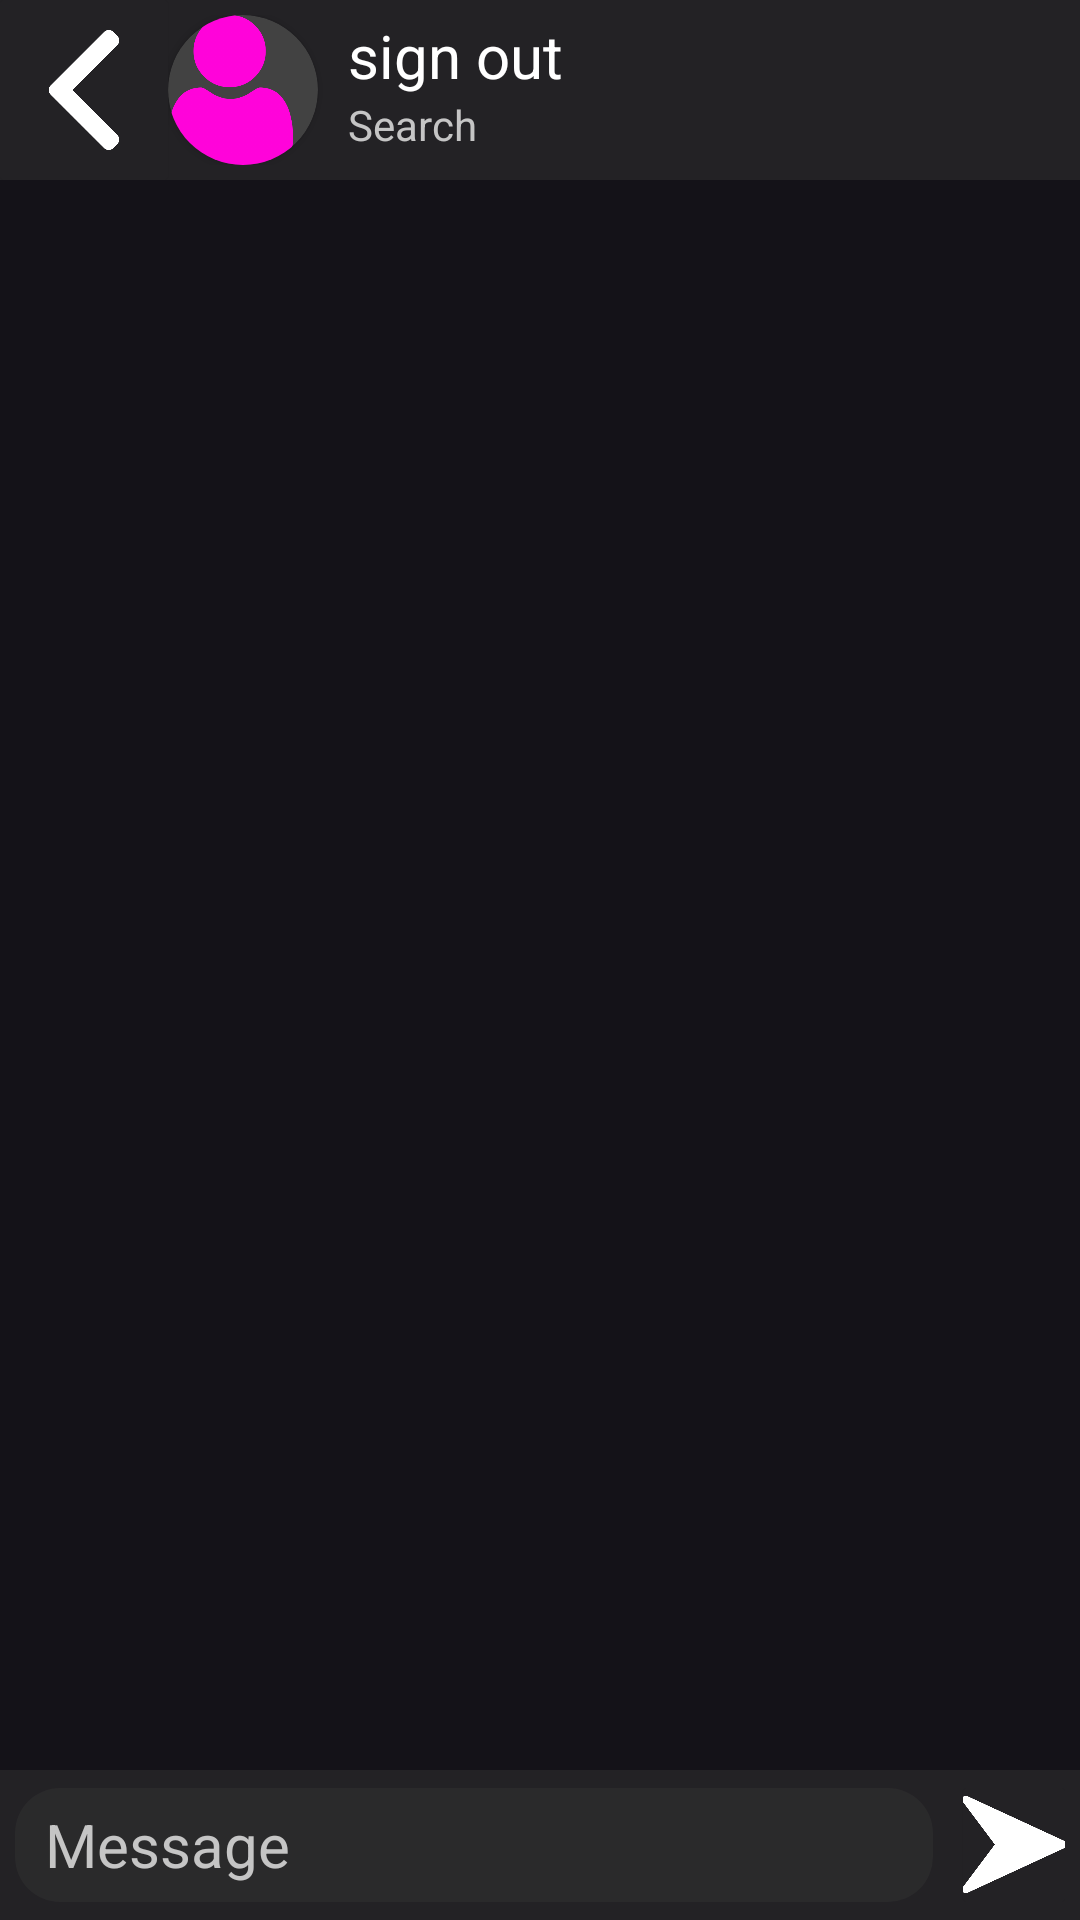

Icons on this 1080 x 1920 Android screen, each with the point to tap as point (x, y):
acc: point (243, 90)
back to main: point (84, 90)
